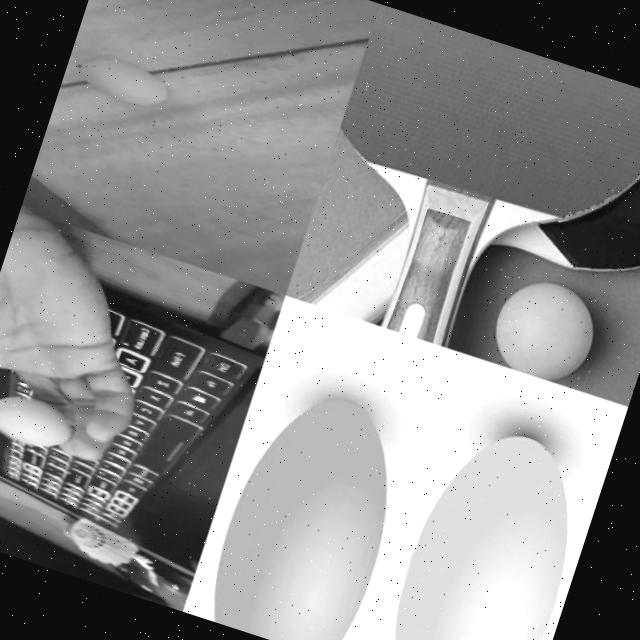ping-pong-ball: (198, 376, 420, 640), (371, 407, 607, 640), (482, 269, 604, 389), (71, 50, 169, 114), (0, 383, 77, 455)
